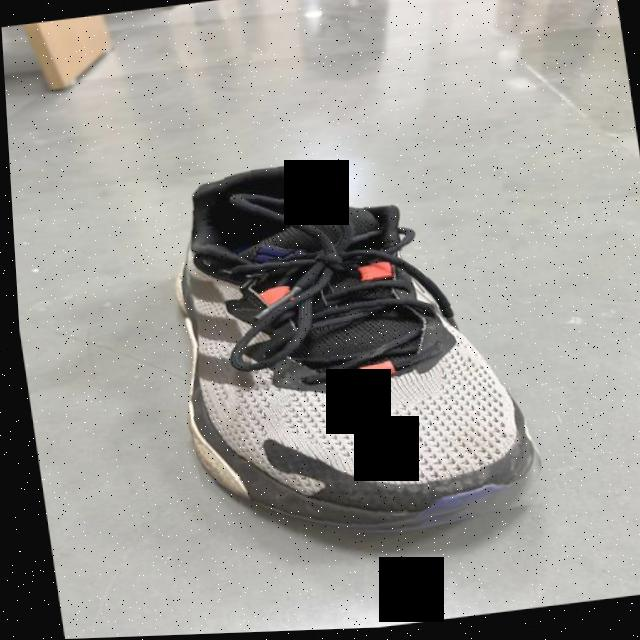shoe: (152, 142, 547, 560)
